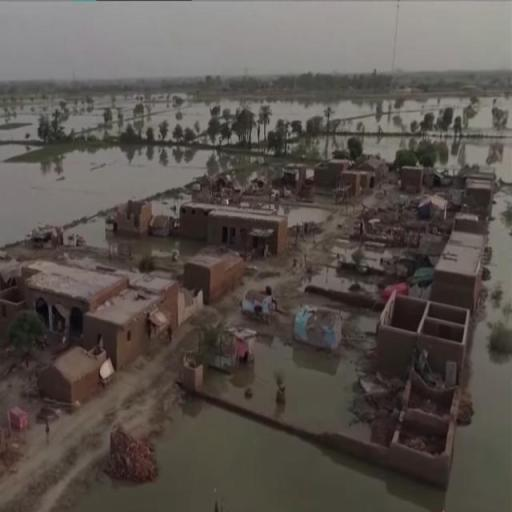flood: (54, 186, 512, 512), (0, 92, 471, 162), (205, 305, 378, 441), (0, 147, 212, 244), (63, 194, 206, 273), (287, 206, 397, 305), (431, 136, 512, 183), (471, 96, 512, 129)
house: (20, 258, 177, 372), (378, 291, 474, 368), (437, 232, 487, 310), (207, 208, 285, 254)
